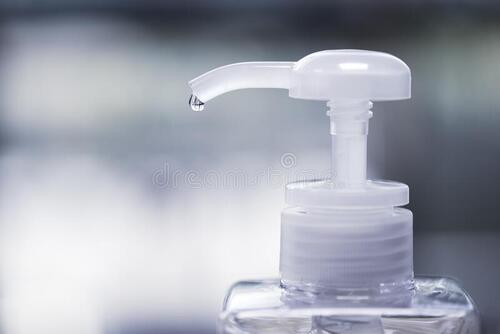sanitizer: (184, 46, 482, 332)
